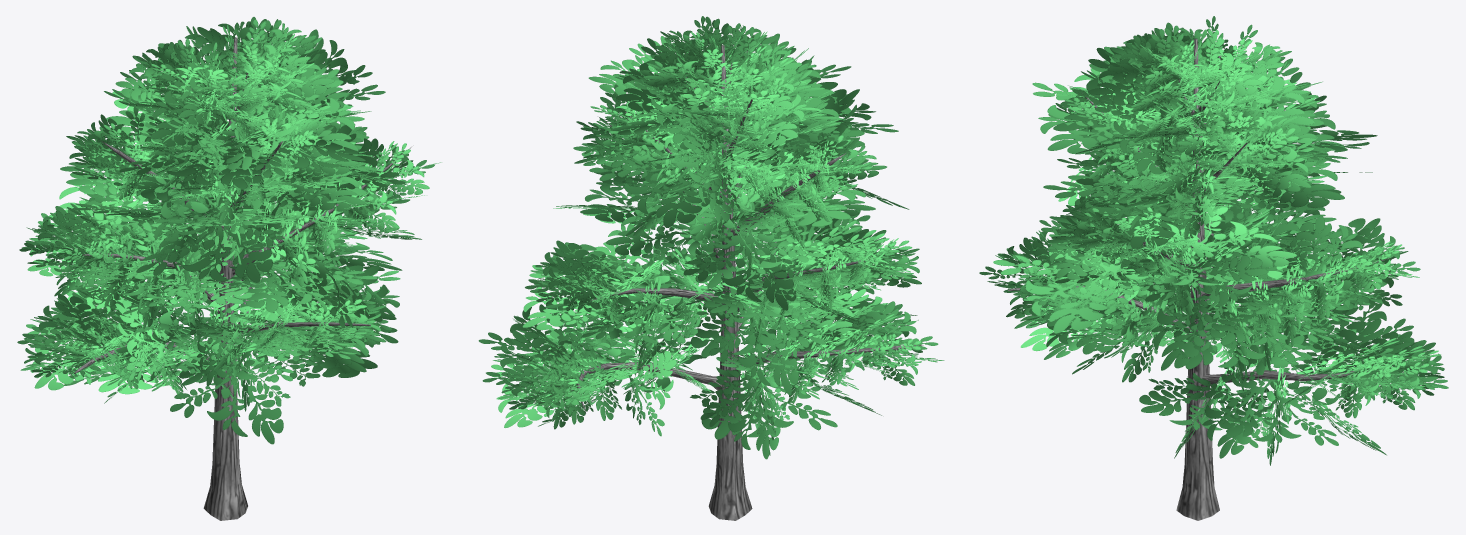
Rendered from Tree_A_01_m.fbx.
3 renders of one model, left to right at view 1: azimuth 30°, elevation 25°; view 2: azimuth 150°, elevation 25°; view 3: azimuth 270°, elevation 25°, orthographic. The views are drawn at different scales.
Visible parts, largest first — view 1: Tree01_jbm_m; view 2: Tree01_jbm_m; view 3: Tree01_jbm_m.
Boxes of the visible parts, x1,y1,x2,y2 form: Tree01_jbm_m: (17,17,441,520); Tree01_jbm_m: (478,16,944,520); Tree01_jbm_m: (979,16,1448,520).
Size of the model in its own units: 1120 by 1313 by 1160.
